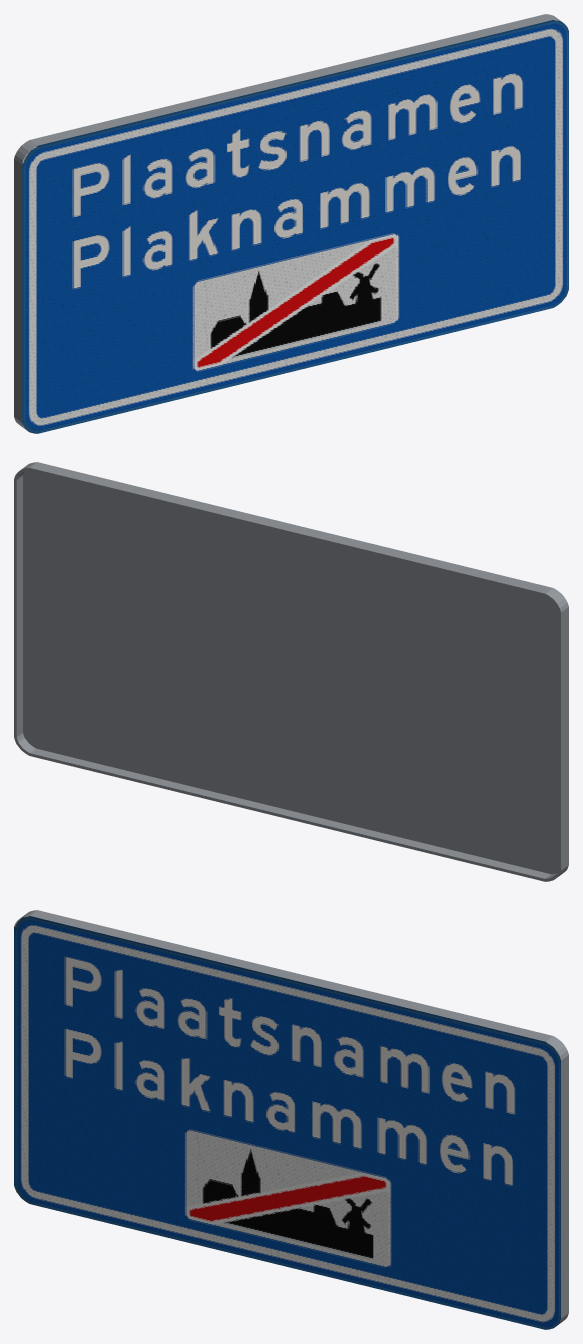
3 renders of one model, top to bottom at view 1: azimuth 30°, elevation 25°; view 2: azimuth 150°, elevation 25°; view 3: azimuth 330°, elevation 25°, orthographic.
Visible parts, largest first — view 1: cat_73b5c06e1da17f7e; view 2: cat_73b5c06e1da17f7e; view 3: cat_73b5c06e1da17f7e.
Part boxes in pixels (x1,y1,x2,y2): cat_73b5c06e1da17f7e: (14,14,568,433); cat_73b5c06e1da17f7e: (14,462,568,881); cat_73b5c06e1da17f7e: (14,910,568,1329).
Size of the model in its own units: 0.6 by 0.015 by 0.302.
Materials: 2 (1 with a texture image).
